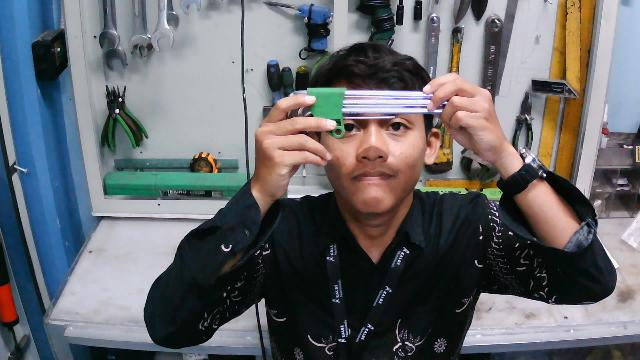kunci_l_bintang: (277, 82, 459, 132)
